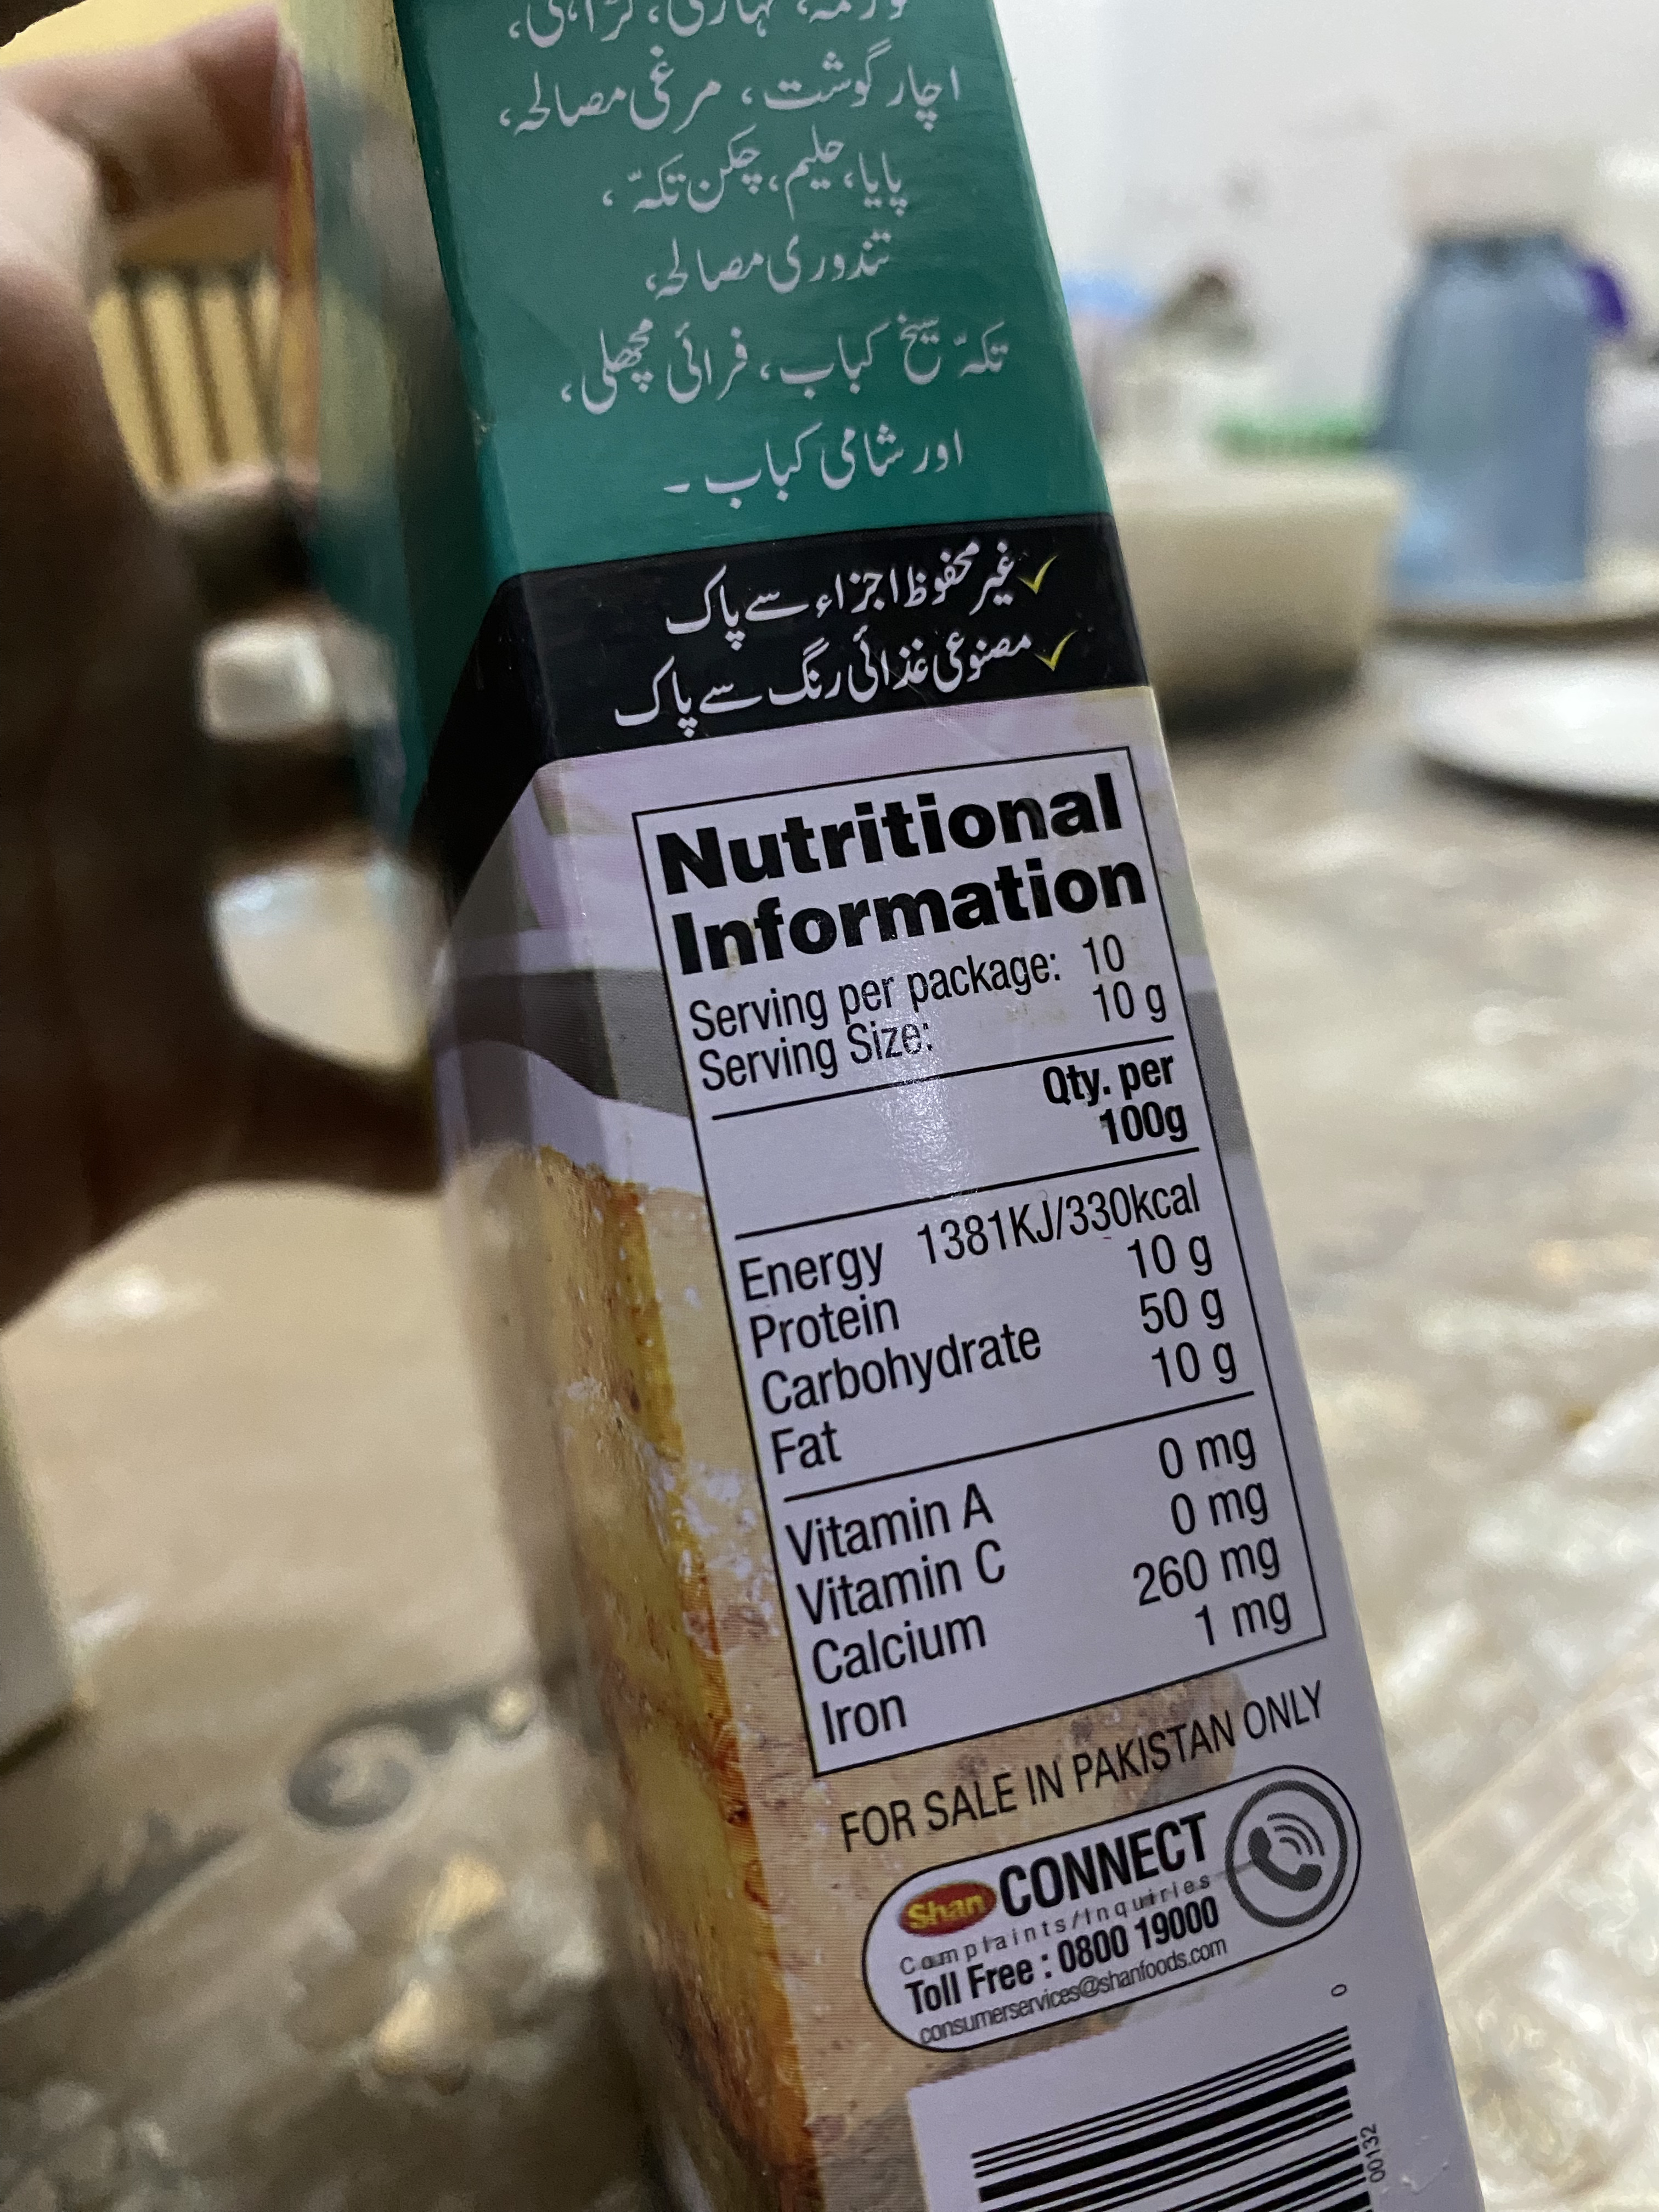table: (626, 740, 1349, 1782)
